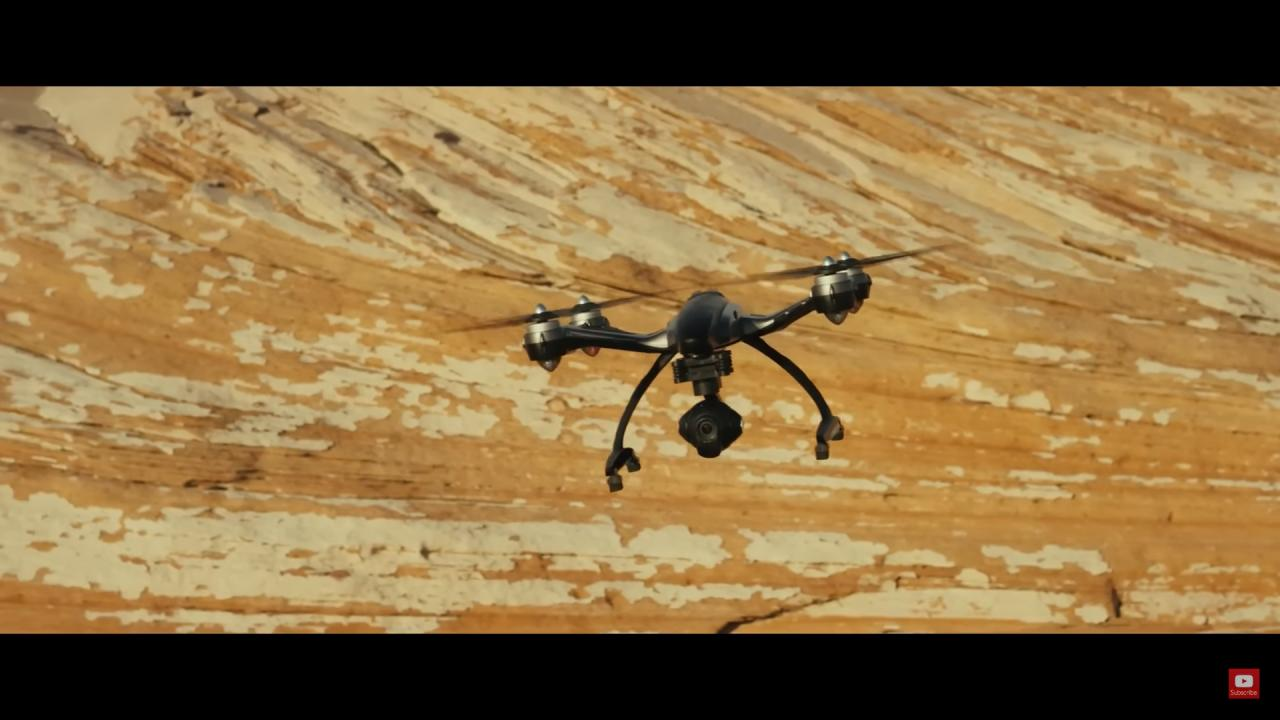Drone: (414, 230, 1014, 501)
